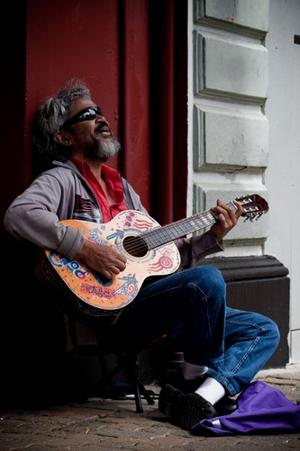person: (5, 81, 280, 431)
